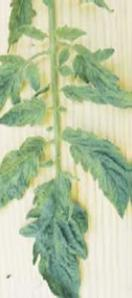Tomato leaf mosaic virus: (31, 171, 94, 298), (63, 128, 132, 216), (68, 41, 132, 106), (0, 54, 44, 126), (0, 98, 53, 128)
